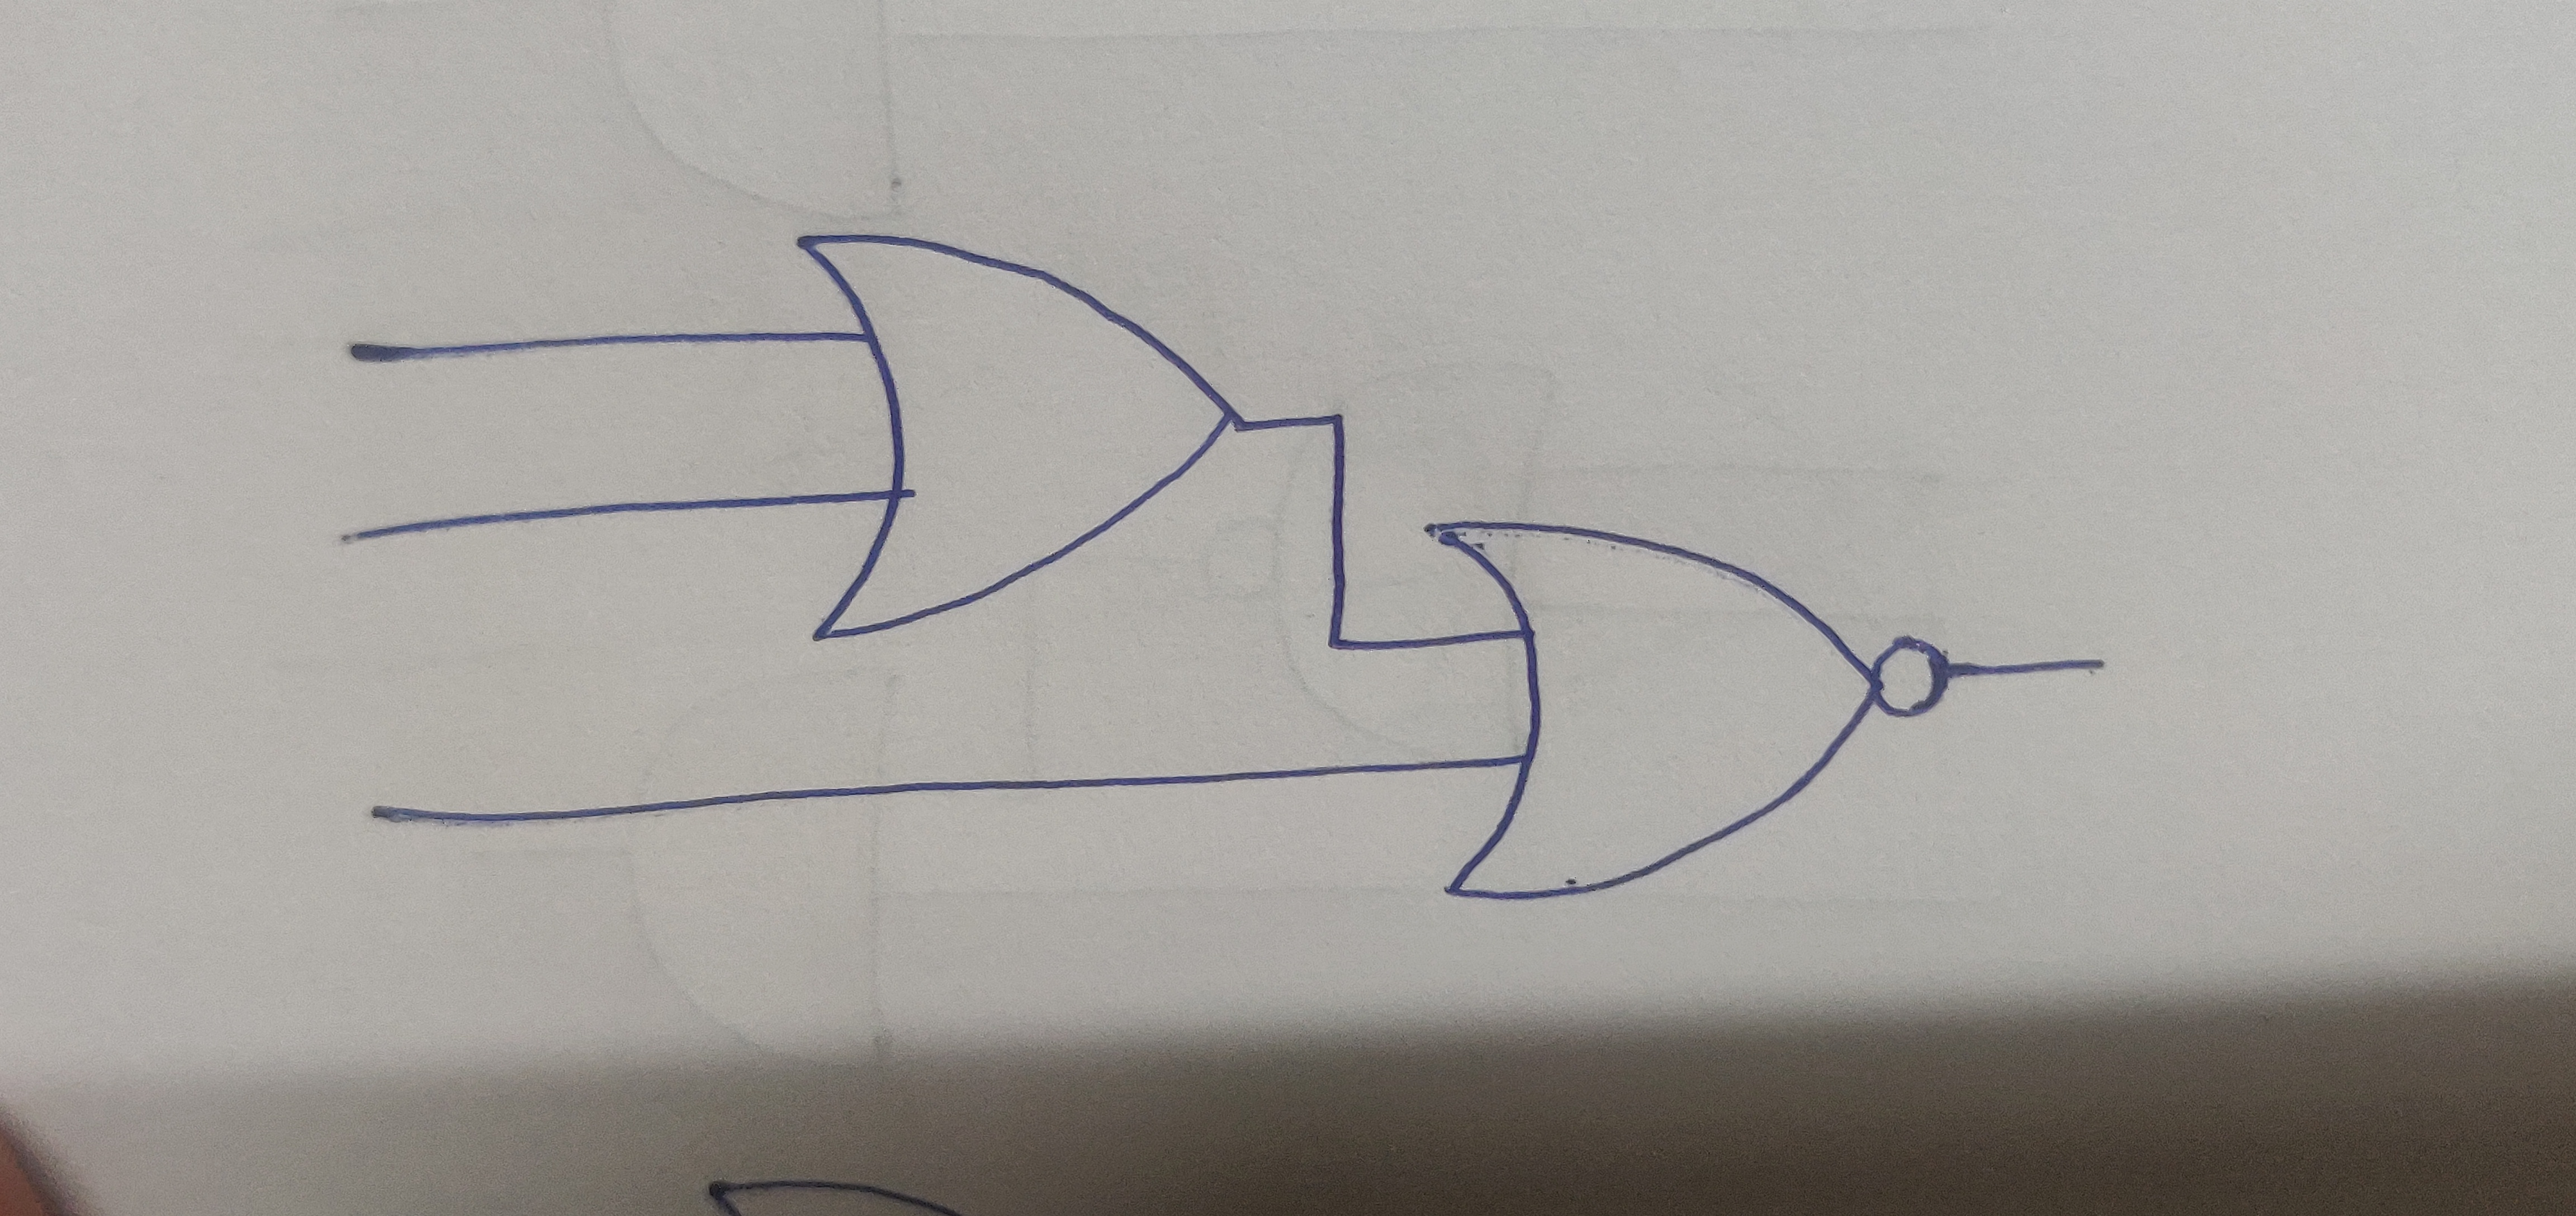not: (1866, 631, 1965, 733)
or: (782, 223, 1239, 647), (1419, 513, 1886, 907)
